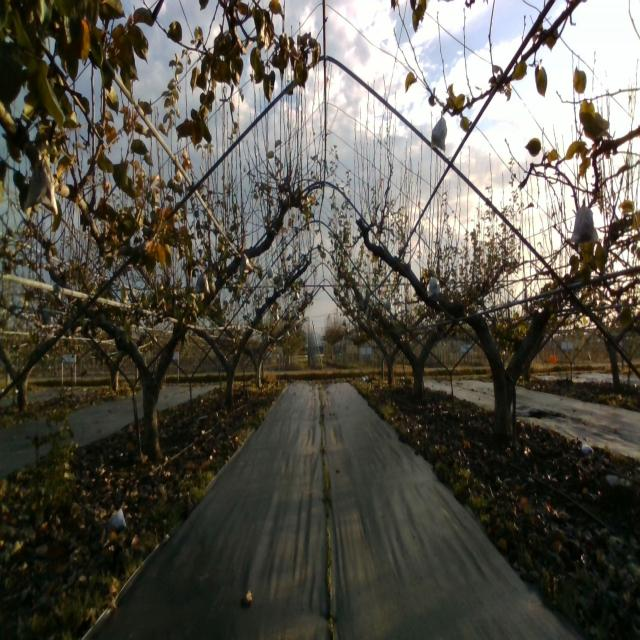pearbags: (24, 154, 59, 216), (570, 199, 598, 244), (430, 112, 447, 151), (195, 272, 210, 296), (427, 276, 441, 298), (240, 253, 254, 274)
